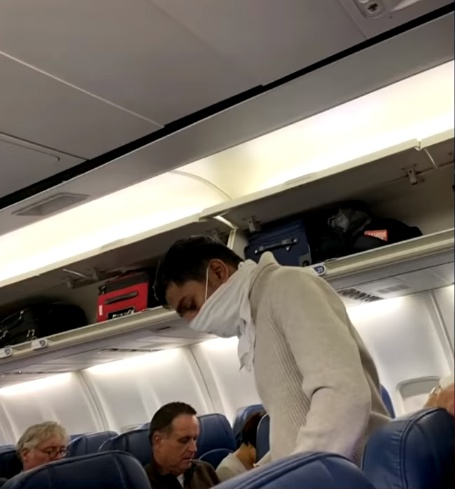mouth: (181, 456, 194, 461)
nose: (188, 446, 198, 453)
